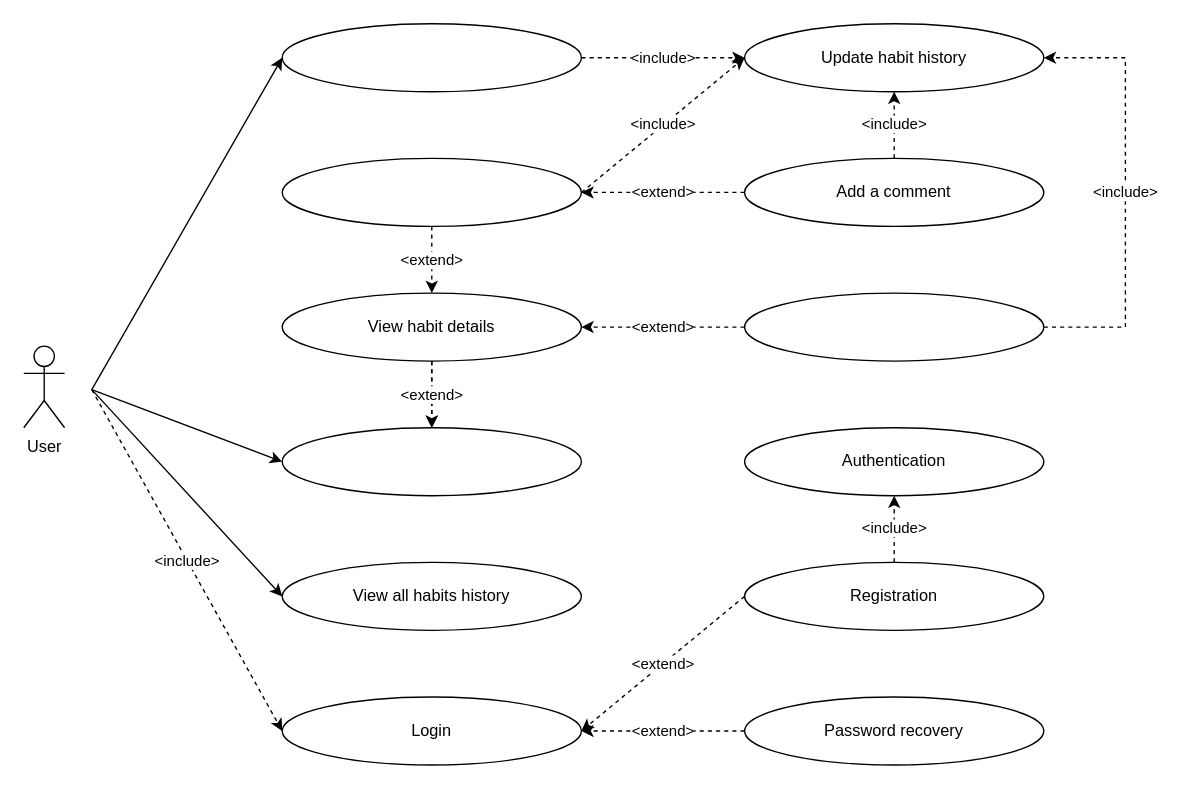
Image size: 1182x789. Some labels were removed from this diagram. Each missing label, with the centre of its shape:
Add a habit: point (431, 57)
Edit habit details: point (893, 326)
List habits: point (431, 461)
Make habit done or skip today: point (431, 191)
